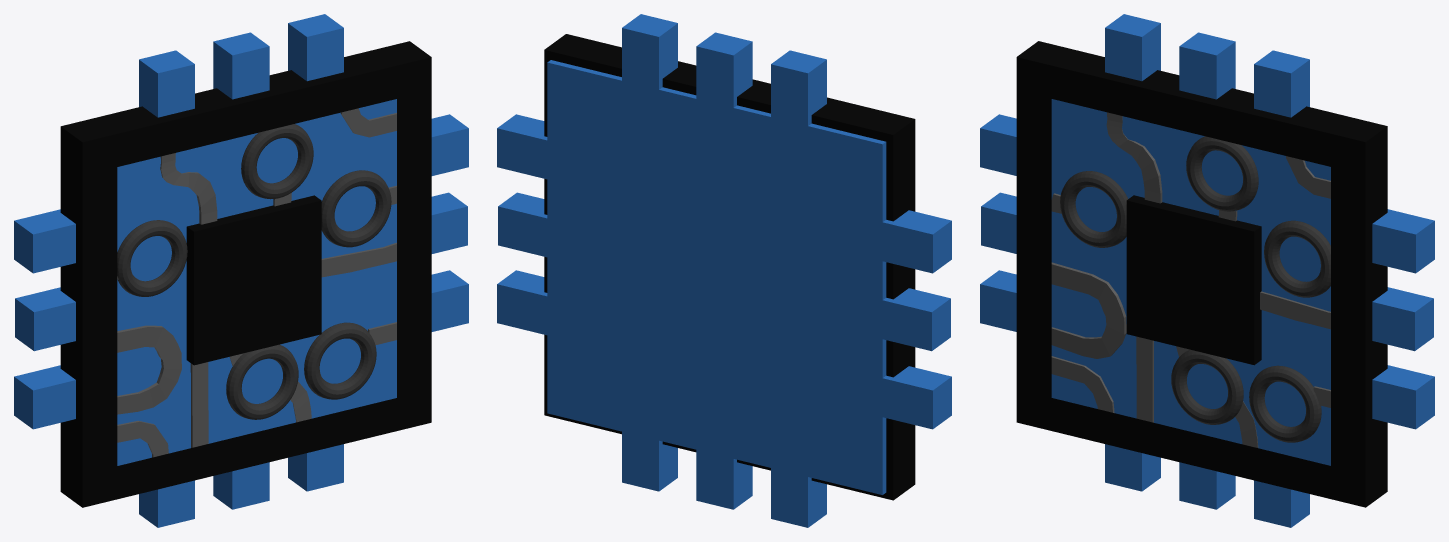
The model's file is chip7.gltf.
The picture shows the model from 3 angles, left to right: view 1: azimuth 30°, elevation 25°; view 2: azimuth 150°, elevation 25°; view 3: azimuth 330°, elevation 25°; orthographic projection.
Parts seen in each view (by area): view 1: Cube, Cube2, Cube3, Torus, Cube1; view 2: Cube, Cube2; view 3: Cube, Cube2, Cube3, Torus, Cube1.
Part boxes in pixels (x1,y1,x2,y2): Cube: [14, 14, 468, 527]; Cube2: [60, 41, 431, 507]; Cube3: [186, 195, 321, 365]; Torus: [117, 124, 391, 419]; Cube1: [117, 108, 396, 457]; Cube: [497, 14, 951, 527]; Cube2: [544, 34, 915, 500]; Cube: [980, 14, 1434, 527]; Cube2: [1016, 41, 1387, 507]; Cube3: [1126, 195, 1261, 365]; Torus: [1060, 136, 1330, 442]; Cube1: [1051, 112, 1330, 447].
Bounding box in the file's own units: 2.6 × 2.59 × 0.2705.
